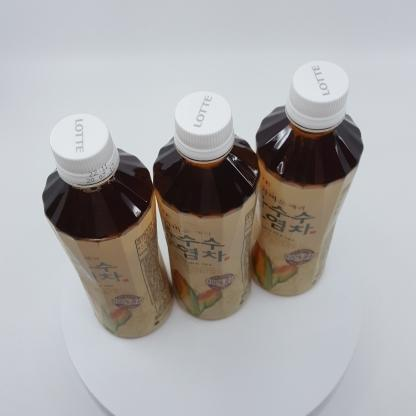--------500ML: (42, 114, 173, 339), (247, 60, 364, 297), (152, 91, 261, 321)
